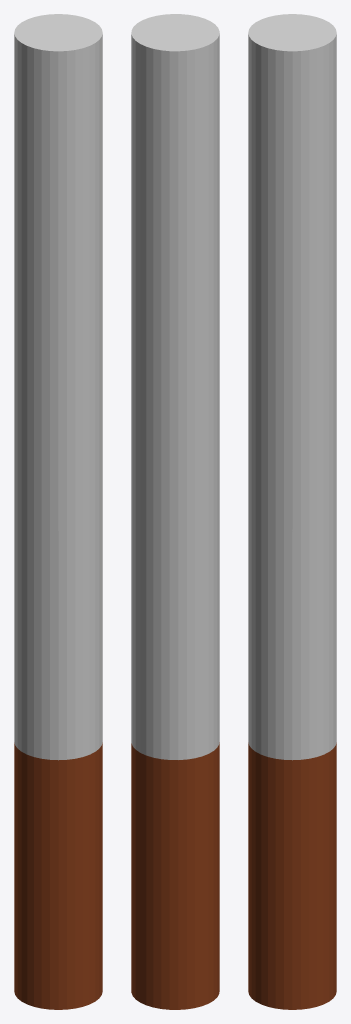
The model's file is cigarette.fbx.
3 renders of one model, left to right at view 1: azimuth 90°, elevation 25°; view 2: azimuth 150°, elevation 25°; view 3: azimuth 270°, elevation 25°, orthographic.
Parts seen in each view (by area): view 1: Cylinder; view 2: Cylinder; view 3: Cylinder.
Boxes of the visible parts, <box> form: Cylinder: <box>14,14,102,1009</box>; Cylinder: <box>131,14,219,1009</box>; Cylinder: <box>248,14,336,1009</box>.
Size of the model in its own units: 7.4 by 88.44 by 7.4.
